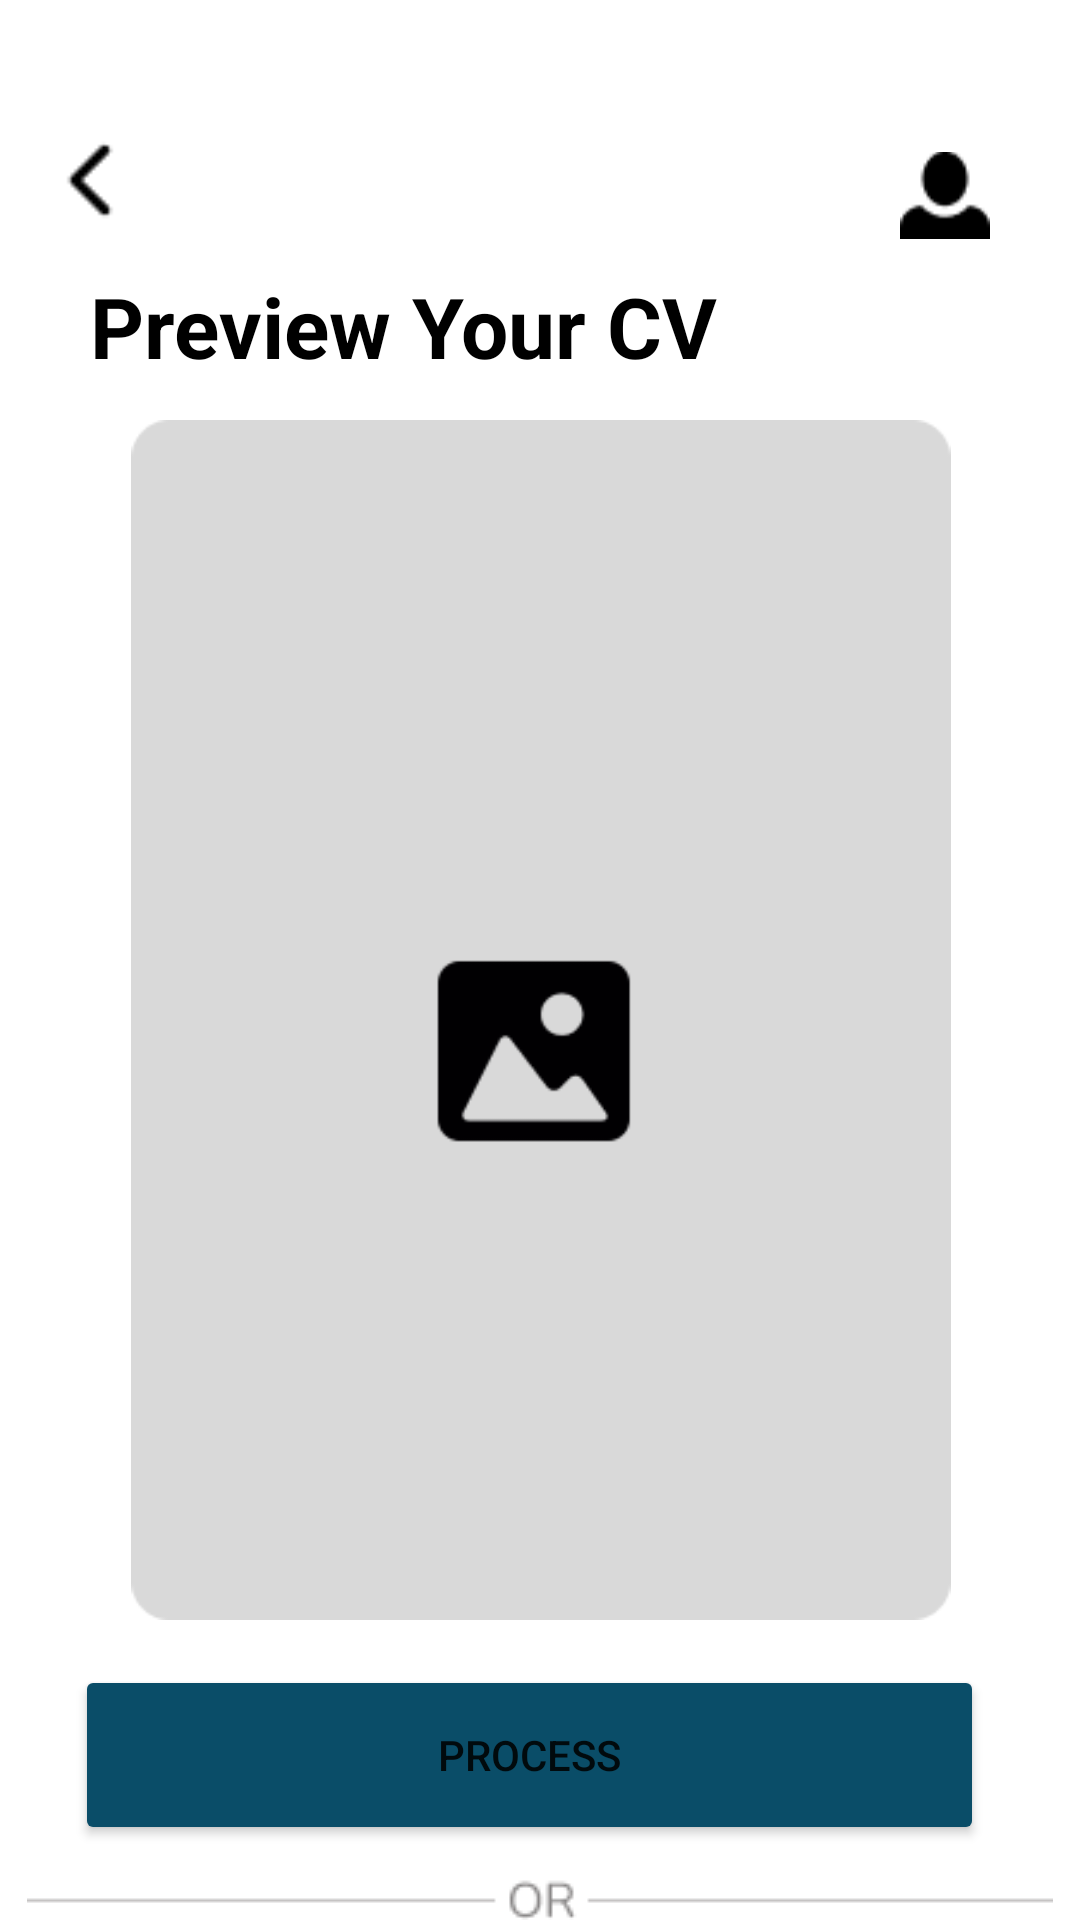

Where to tap for icons on this 1080px x 1920px app screen, as (x,y):
back: (90,180)
person: (945,195)
